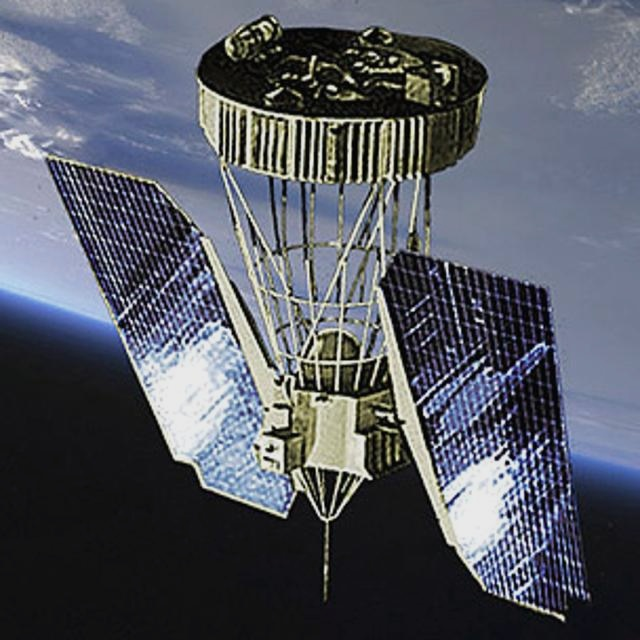satellite: (24, 5, 600, 640)
